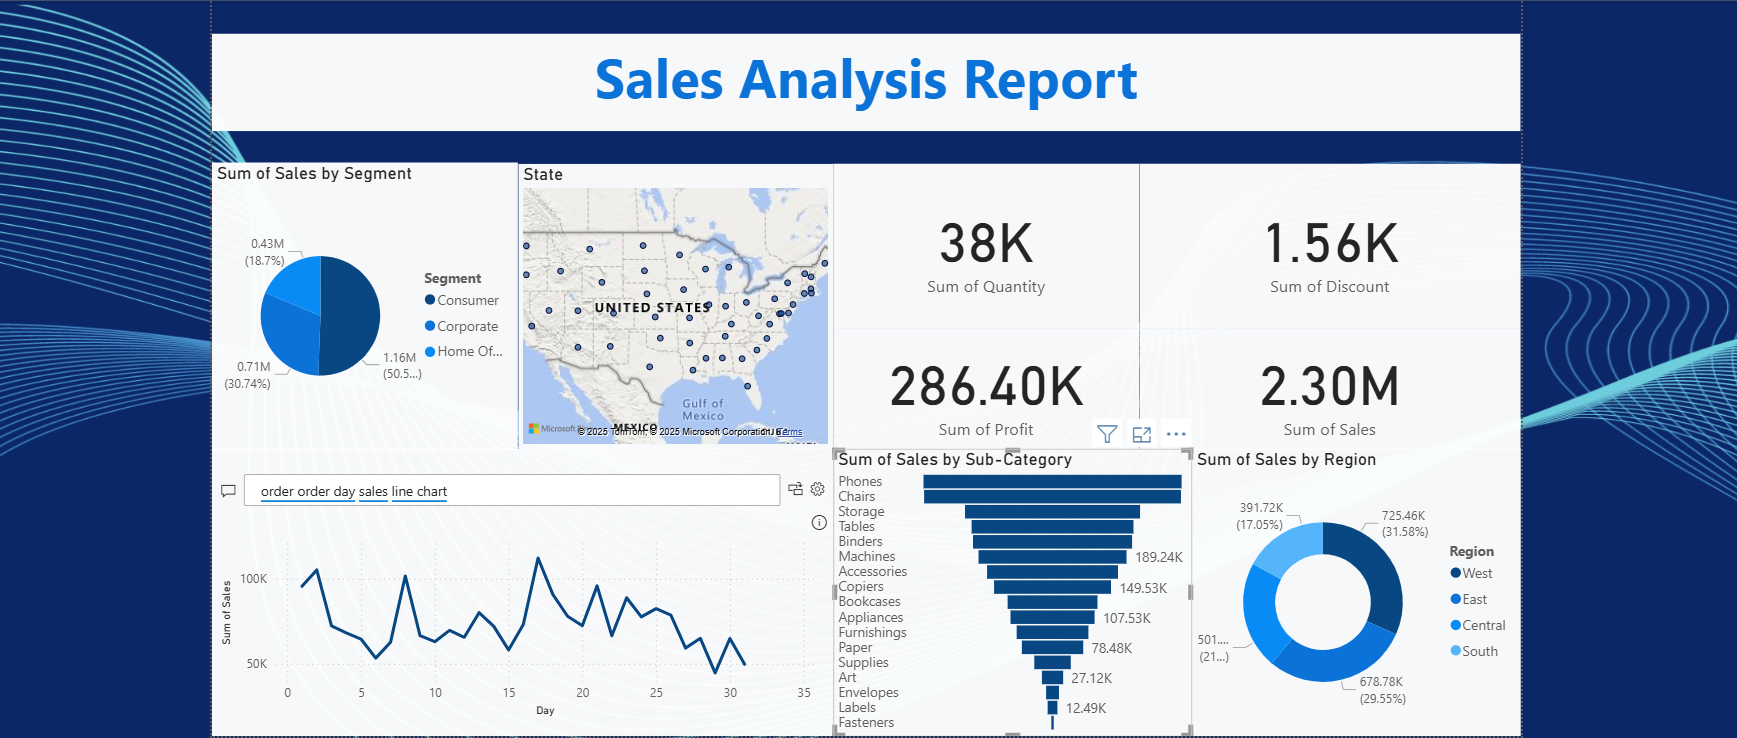

What the dashboard file says about the page in this screenshot:
{"tool":"powerbi","page":{"name":"Page 1","canvas":[1280,720],"ordinal":0},"visuals":[{"type":"donutChart","fields":{"Category":["Orders.Region"],"Y":["Sum(Orders.Sales)"]},"box":[958.7,439,321.6,281.3],"z":0},{"type":"funnel","fields":{"Category":["Orders.Sub-Category"],"Y":["Sum(Orders.Sales)"]},"box":[607.7,439,351,281.3],"z":1000},{"type":"map","fields":{"Category":["Orders.State"]},"box":[299.6,160.2,308.2,278.8],"z":2000},{"type":"pieChart","fields":{"Category":["Orders.Segment"],"Y":["Sum(Orders.Sales)"]},"box":[0,159,299.6,281.3],"z":3000},{"type":"qnaVisual","box":[0,439,607.7,281.3],"z":4000},{"type":"card","fields":{"Values":["Sum(Orders.Sales)"]},"box":[907.3,321.6,373,118.6],"z":5000},{"type":"card","fields":{"Values":["Sum(Orders.Profit)"]},"box":[607.7,321.6,299.6,118.6],"z":6000},{"type":"card","fields":{"Values":["Sum(Orders.Quantity)"]},"box":[607.7,160.2,299.6,161.4],"z":7000},{"type":"card","fields":{"Values":["Sum(Orders.Discount)"]},"box":[907.3,160.2,373,161.4],"z":8000},{"type":"textbox","box":[0,33,1280.3,95.4],"z":10000}]}

Visuals, with their boxes on the page's 1280x720 design canvas (x1, y1, x2, y2). These are canvas units, not pixel positions in the 1737x738 screenshot, which may show the page scaled, cropped or inside an application window:
donutChart - Orders.Region x Sum(Orders.Sales): 959:439:1280:720
funnel - Orders.Sub-Category x Sum(Orders.Sales): 608:439:959:720
map - Orders.State: 300:160:608:439
pieChart - Orders.Segment x Sum(Orders.Sales): 0:159:300:440
qnaVisual: 0:439:608:720
card - Sum(Orders.Sales): 907:322:1280:440
card - Sum(Orders.Profit): 608:322:907:440
card - Sum(Orders.Quantity): 608:160:907:322
card - Sum(Orders.Discount): 907:160:1280:322
textbox: 0:33:1280:128
